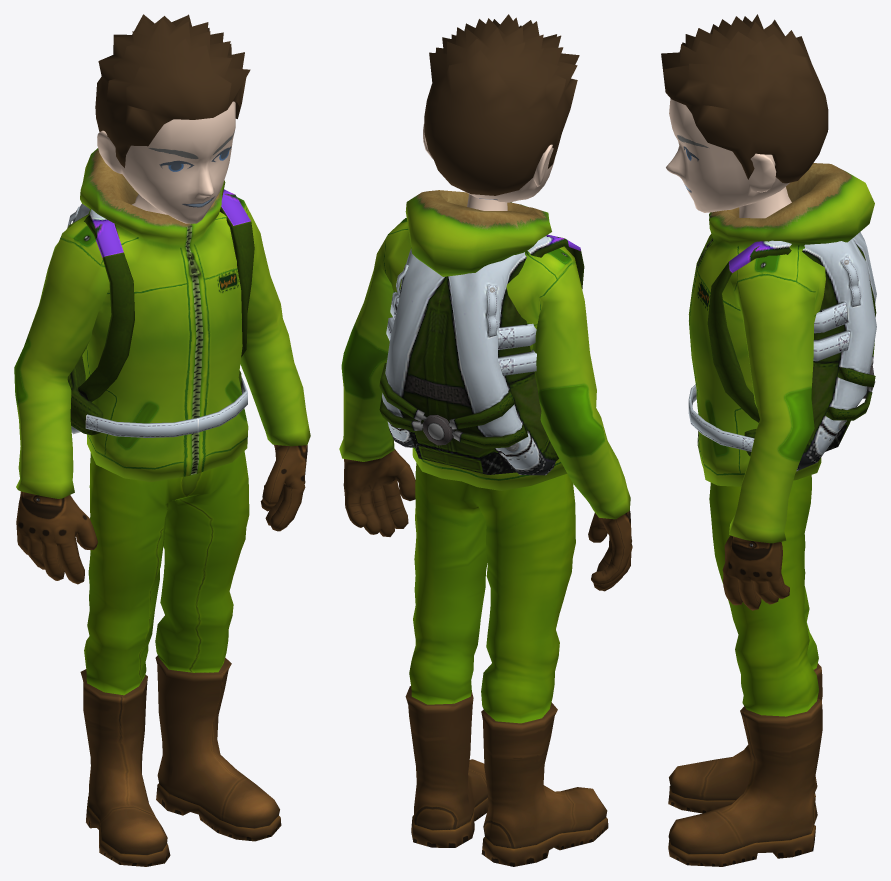
File: alpinista.glb
3 renders of one model, left to right at view 1: azimuth 30°, elevation 25°; view 2: azimuth 150°, elevation 25°; view 3: azimuth 270°, elevation 25°, orthographic.
Visible parts, largest first — view 1: node_id42, node_id40, node_id46, node_id35, node_id44; view 2: node_id40, node_id42, node_id35, node_id46, node_id44; view 3: node_id42, node_id40, node_id46, node_id35, node_id44, node_id38.
Boxes of the visible parts, x1=… form: node_id42: x1=14, y1=148, x2=310, y2=584; node_id40: x1=80, y1=451, x2=281, y2=866; node_id46: x1=95, y1=14, x2=250, y2=167; node_id35: x1=67, y1=189, x2=254, y2=437; node_id44: x1=97, y1=101, x2=235, y2=223; node_id40: x1=405, y1=463, x2=608, y2=866; node_id42: x1=339, y1=190, x2=632, y2=591; node_id35: x1=379, y1=234, x2=584, y2=475; node_id46: x1=424, y1=14, x2=579, y2=195; node_id44: x1=423, y1=124, x2=554, y2=202; node_id42: x1=688, y1=163, x2=874, y2=610; node_id40: x1=668, y1=475, x2=822, y2=866; node_id46: x1=661, y1=14, x2=828, y2=183; node_id35: x1=688, y1=232, x2=876, y2=471; node_id44: x1=666, y1=98, x2=789, y2=212; node_id38: x1=739, y1=187, x2=791, y2=218.
Size of the model in its own units: 0.1821 by 0.4859 by 0.1184.
Materials: 6 (6 with a texture image).
